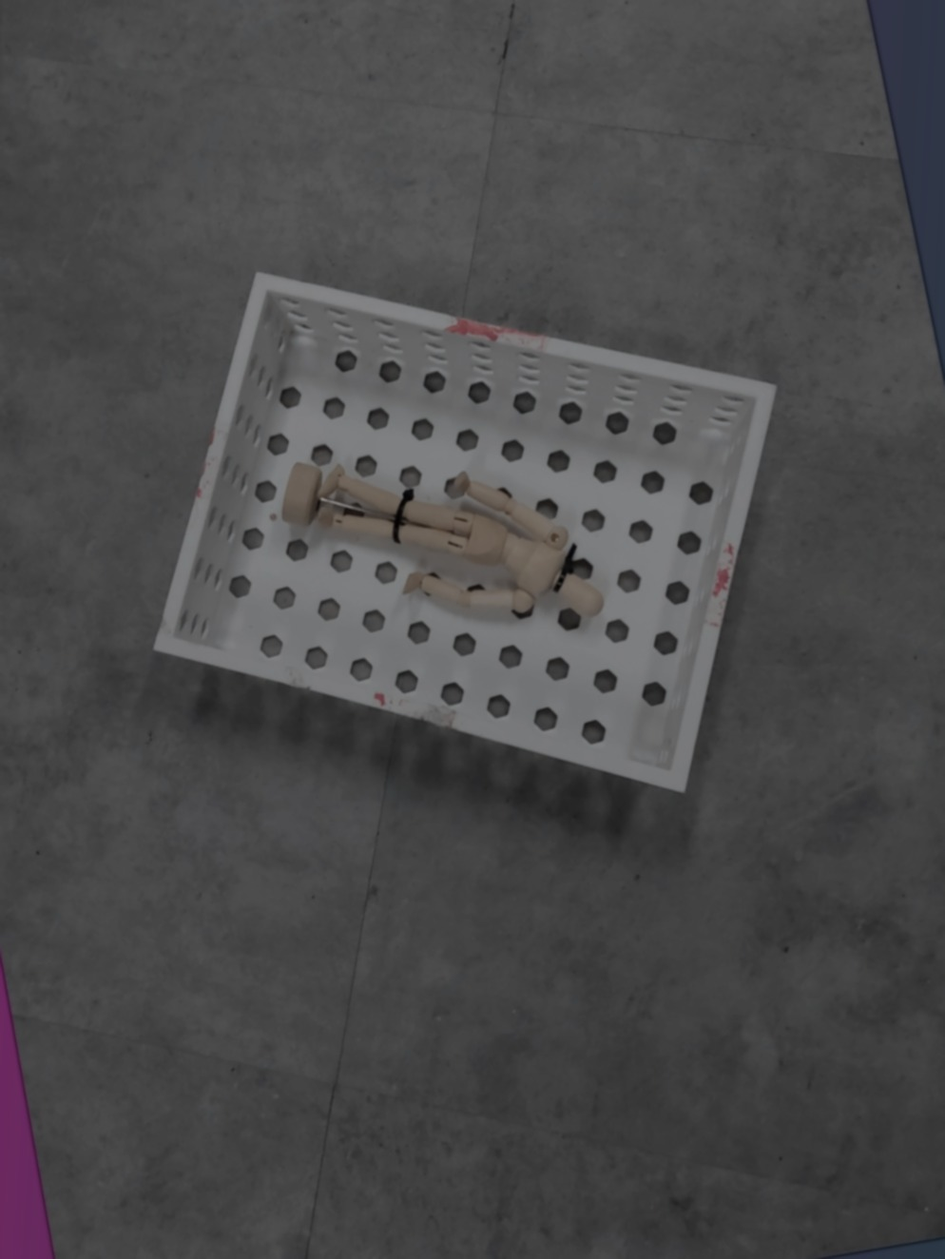basket: (143, 263, 788, 804)
mannequin: (274, 456, 609, 627)
